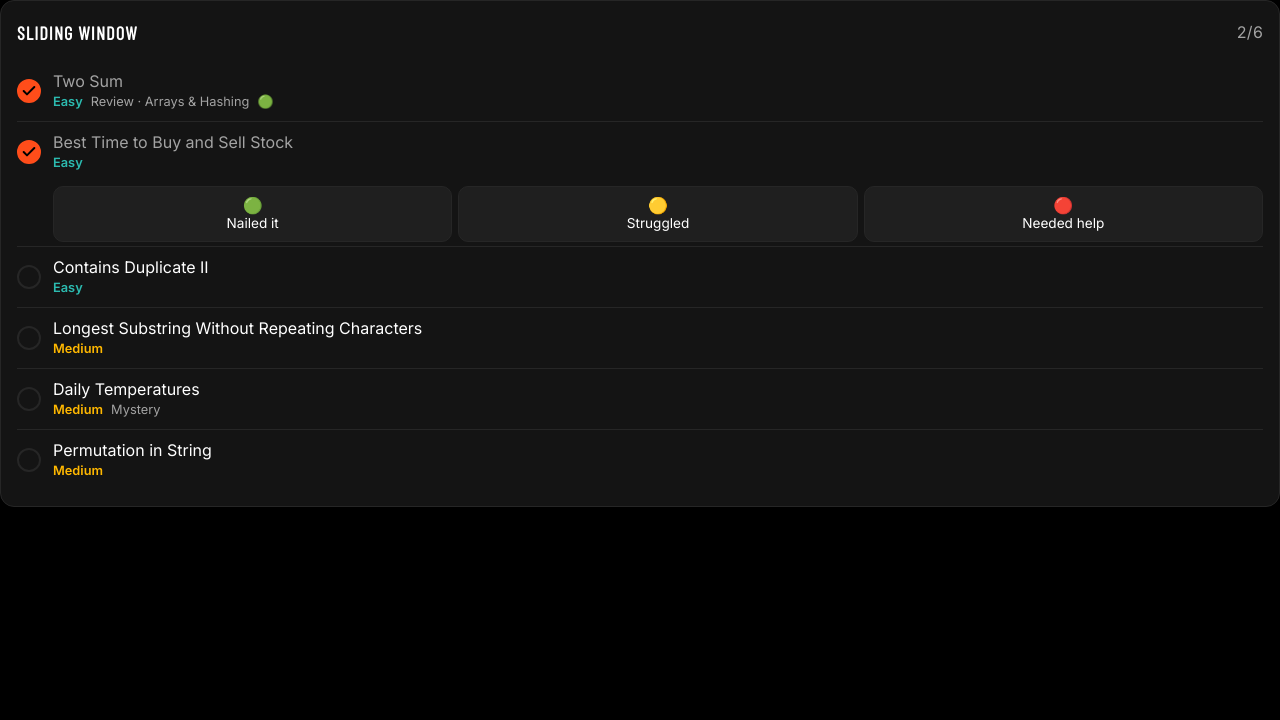
Scenario: DailySetCard › a failed rating write says so in the set card (I3)
Click the button "🟢 Nailed it" at (253, 214), box left=53, top=186, right=452, bottom=242
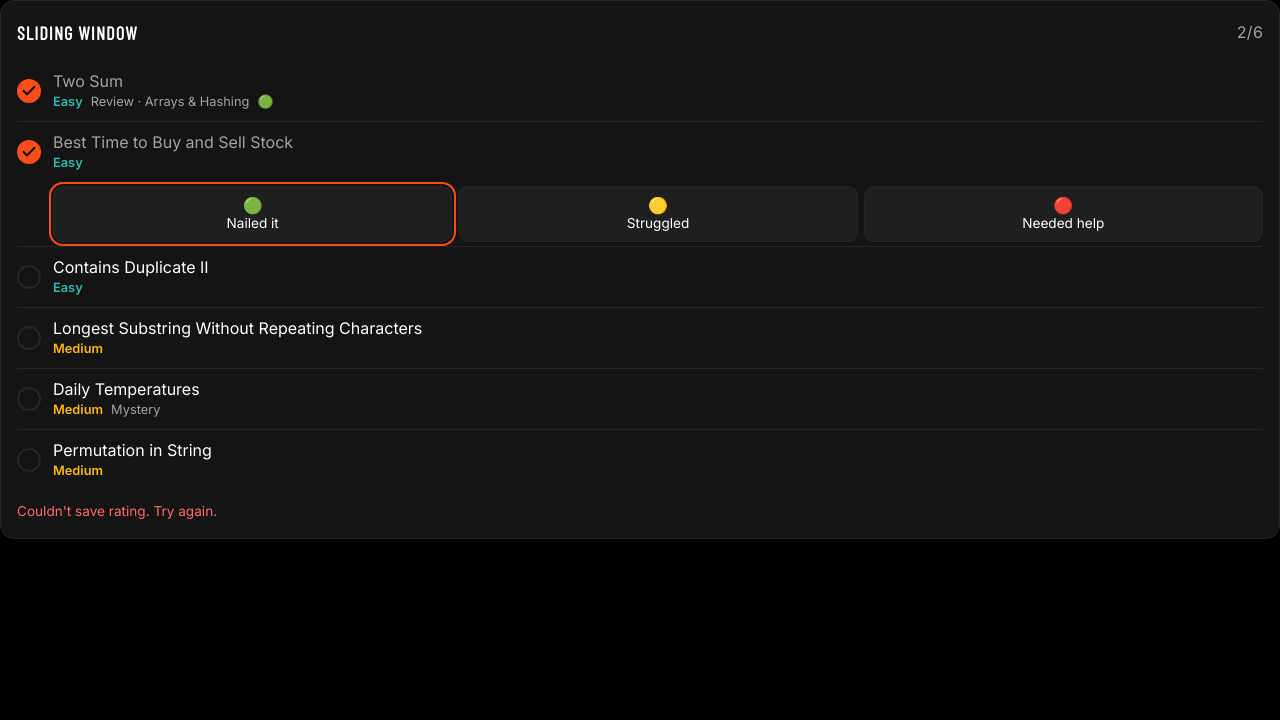
Expected: the text "Couldn't save rating. Try again." is shown, left=17, top=503, right=217, bottom=519
